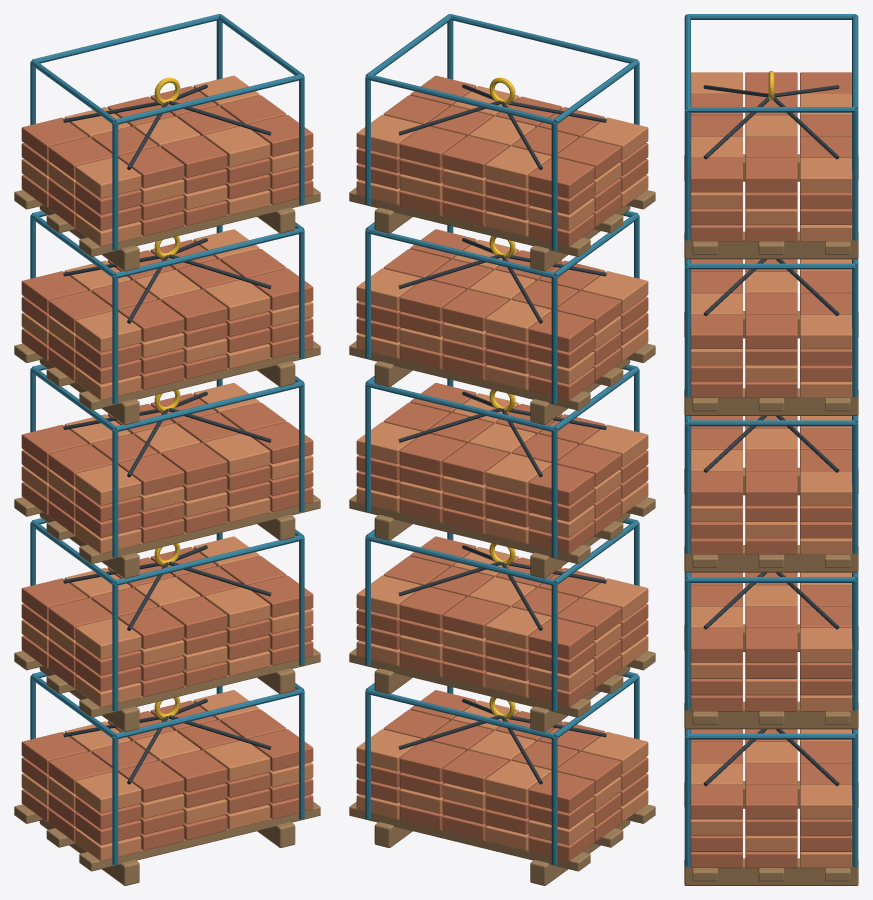
Rendered from brick-pallet.glb.
3 renders of one model, left to right at view 1: azimuth 30°, elevation 25°; view 2: azimuth 150°, elevation 25°; view 3: azimuth 270°, elevation 25°, orthographic. The views are drawn at different scales.
Visible parts, largest first — view 1: PalletDeck.027, PalletDeck.021, PalletDeck.018, PalletDeck.015, PalletDeck.024, Brick.285, Brick.105, Brick.225, Brick.165, Brick.045, Brick.111, Brick.231 (+171 smaller); view 2: PalletDeck.029, PalletDeck.023, PalletDeck.020, PalletDeck.017, PalletDeck.026, Brick.287, Brick.107, Brick.227, Brick.167, Brick.047, Brick.113, Brick.233 (+171 smaller); view 3: PalletFoot.019, PalletFoot.013, PalletFoot.015, PalletFoot.011, PalletFoot.017, Brick.058, Brick.057, Brick.059, Brick.178, Brick.118, Brick.238, Brick.298 (+122 smaller).
Part boxes in pixels (x1,y1,x2,y2): PalletDeck.027: (79,187,320,256); PalletDeck.021: (79,494,320,564); PalletDeck.018: (79,648,320,717); PalletDeck.015: (79,802,320,871); PalletDeck.024: (79,341,320,410); Brick.285: (75,157,141,198); Brick.105: (75,618,141,659); Brick.225: (75,311,141,352); Brick.165: (75,465,141,505); Brick.045: (75,772,141,813); Brick.111: (161,596,227,638); Brick.231: (161,289,227,331); PalletDeck.029: (349,187,590,256); PalletDeck.023: (349,494,590,564); PalletDeck.020: (349,648,590,717); PalletDeck.017: (349,802,590,871); PalletDeck.026: (349,341,590,410); Brick.287: (528,157,594,198); Brick.107: (528,618,594,659); Brick.227: (528,311,594,352); Brick.167: (528,465,594,505); Brick.047: (528,772,594,813); Brick.113: (442,596,508,638); Brick.233: (442,289,508,331); PalletFoot.019: (684,231,858,259); PalletFoot.013: (684,701,858,729); PalletFoot.015: (684,545,858,572); PalletFoot.011: (684,858,858,885); PalletFoot.017: (684,388,858,415); Brick.058: (745,784,797,819); Brick.057: (690,784,742,819); Brick.059: (800,784,852,819); Brick.178: (745,471,797,505); Brick.118: (745,628,797,662); Brick.238: (745,314,797,348); Brick.298: (745,158,797,192).
Bounding box in the file's own units: 2.33 × 7.43 × 1.5.
